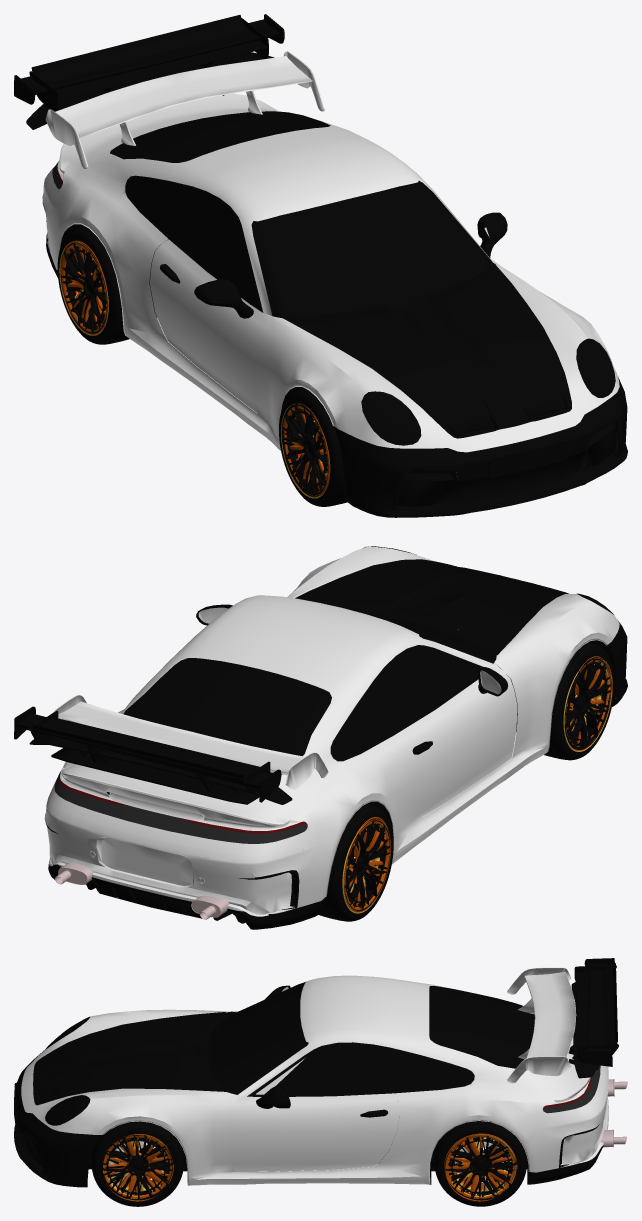
File: porsche_911.glb
3 views of the same model, one above another, from view 1: azimuth 30°, elevation 25°; view 2: azimuth 150°, elevation 25°; view 3: azimuth 270°, elevation 25° (orthographic). The views are drawn at different scales.
Visible parts, largest first — view 1: Body, Glass, Hood_A, FrontBumper_A, Frontdoors, Spoiler_X, Grille, B_Pillar, Spoiler_C, Headlights, Spoiler_A, Tire_BR (+10 smaller); view 2: Body, Glass, RearBumper_A, Hood_A, Frontdoors, Spoiler_X, B_Pillar, Spoiler_A, Taillights, Spoiler_C, Diffuser, Spoiler_D (+14 smaller); view 3: Body, Glass, Frontdoors, Hood_A, Spoiler_X, B_Pillar, FrontBumper_A, RearBumper_A, Spoiler_C, Tire_BL, Tire_FL, Spoiler_A (+18 smaller).
Boxes of the visible parts, box(x1,y1,x2,y2) form: Body: box(44, 93, 619, 452); Glass: box(115, 112, 483, 310); Hood_A: box(283, 266, 571, 438); FrontBumper_A: box(333, 377, 627, 517); Frontdoors: box(149, 239, 495, 413); Spoiler_X: box(45, 51, 324, 168); Grille: box(42, 203, 624, 517); B_Pillar: box(60, 111, 496, 409); Spoiler_C: box(29, 15, 268, 111); Headlights: box(361, 338, 615, 445); Spoiler_A: box(14, 14, 284, 104); Tire_BR: box(57, 226, 152, 344); Body: box(46, 546, 619, 898); Glass: box(126, 604, 483, 772); RearBumper_A: box(44, 805, 337, 916); Hood_A: box(295, 559, 568, 655); Frontdoors: box(394, 664, 517, 816); Spoiler_X: box(53, 695, 328, 789); B_Pillar: box(123, 599, 615, 838); Spoiler_A: box(14, 706, 281, 802); Taillights: box(54, 771, 307, 843); Spoiler_C: box(30, 710, 270, 793); Diffuser: box(48, 864, 326, 929); Spoiler_D: box(51, 748, 259, 804); Body: box(21, 975, 608, 1185); Glass: box(215, 986, 534, 1094); Frontdoors: box(231, 1093, 399, 1171); Hood_A: box(33, 1012, 225, 1105); Spoiler_X: box(507, 967, 576, 1083); B_Pillar: box(88, 982, 534, 1184); FrontBumper_A: box(14, 1050, 103, 1187); RearBumper_A: box(518, 1066, 608, 1172); Spoiler_C: box(568, 963, 618, 1063); Tire_BL: box(434, 1121, 527, 1206); Tire_FL: box(91, 1121, 184, 1206); Spoiler_A: box(572, 958, 614, 1066).
Size of the model in its own units: 0.4585 by 0.2913 by 1.03.
